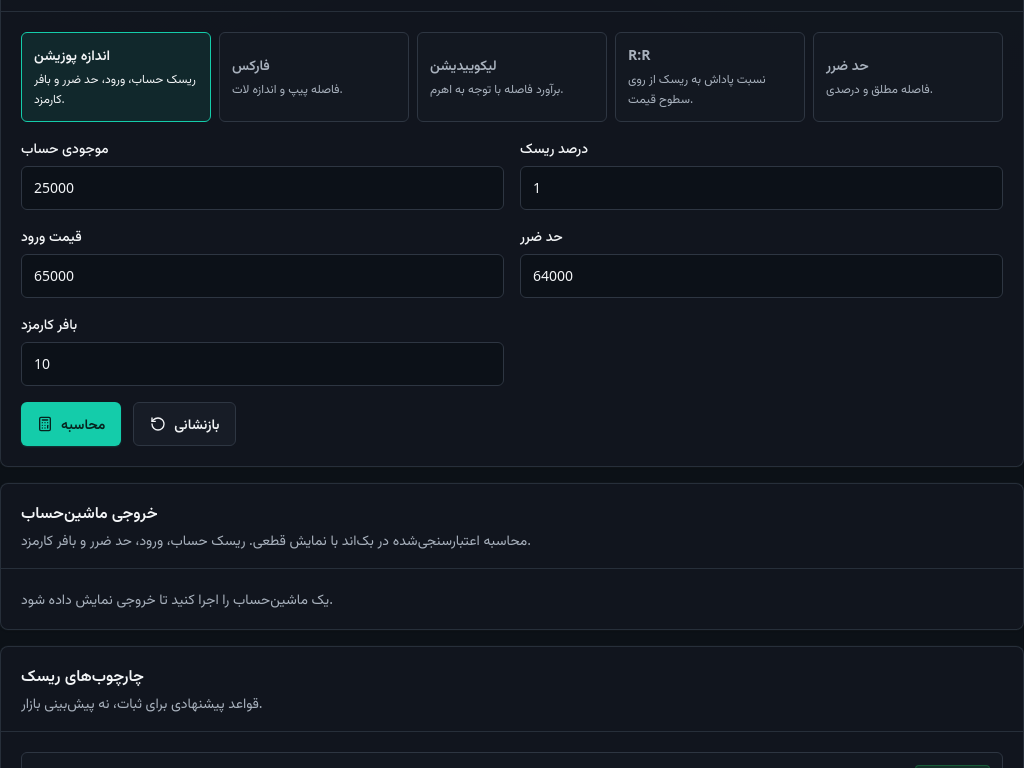
Test: the calculator output in Persian has no Latin digits › writes lots, quantities and ratios in Persian digits
(page scrolled)
What coordinates should you click on to do the following:
click the button "محاسبه"
I would click on:
 (71, 424)
Its box is x1=21 y1=402 x2=121 y2=446.
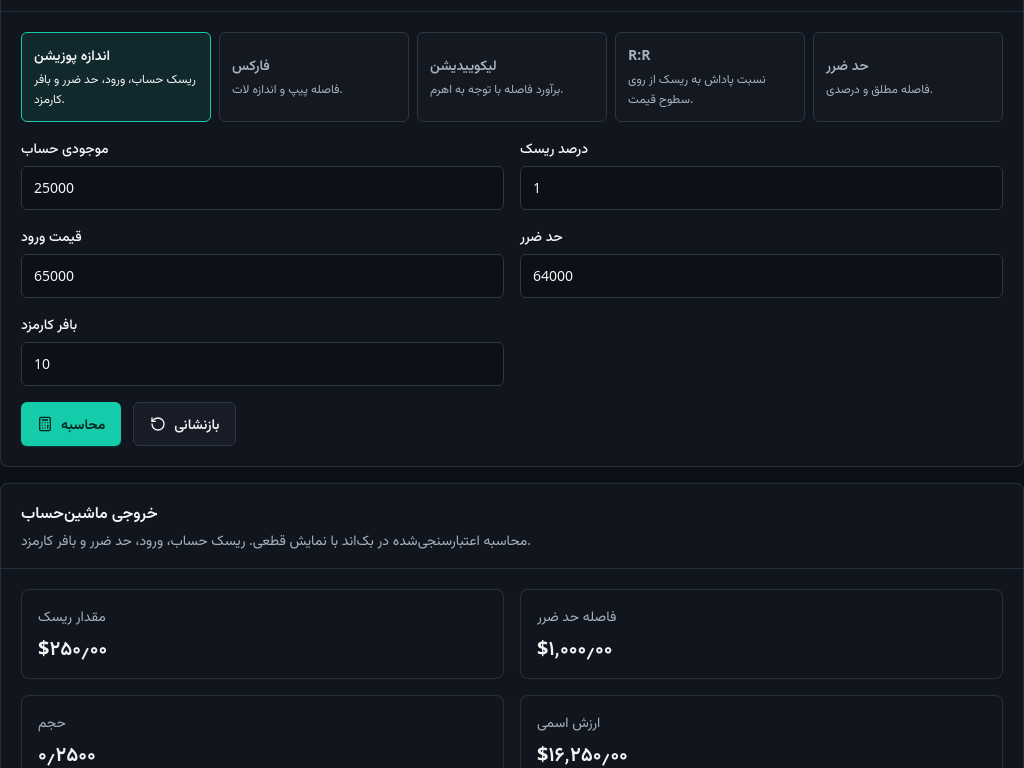
Expected: the text "مقدار ریسک" is shown, x1=38 y1=606 x2=106 y2=625
Expected: the text "۰٫۲۵۰۰" is shown, x1=38 y1=740 x2=96 y2=767
